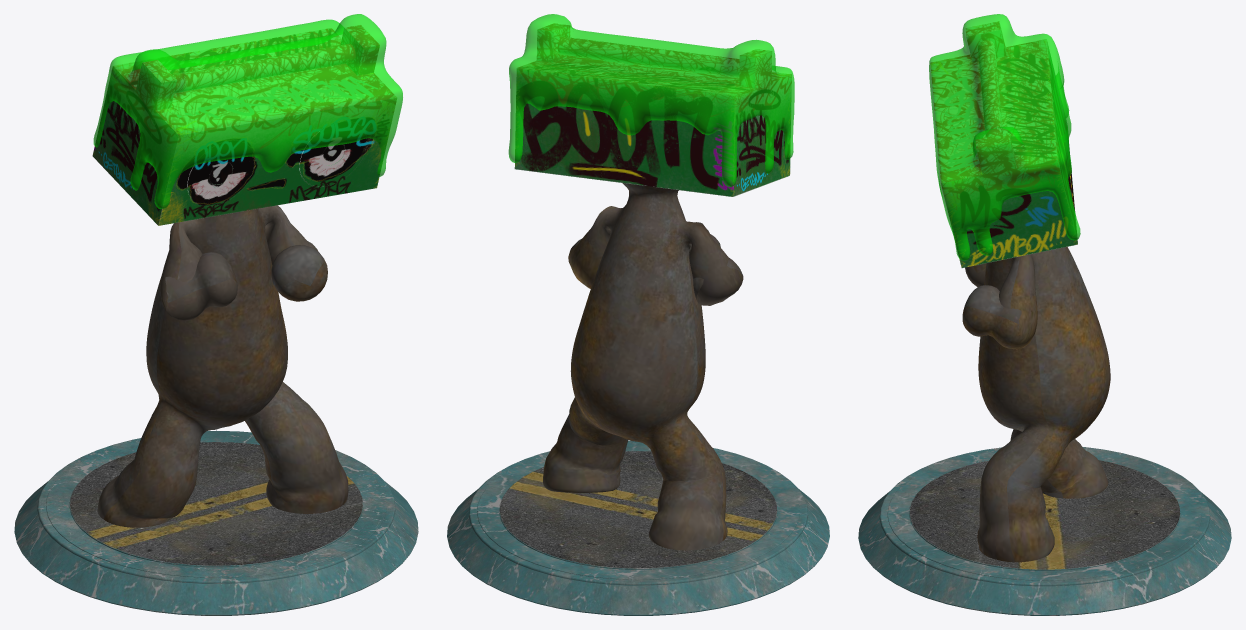
The picture shows the model from 3 angles, left to right: view 1: azimuth 30°, elevation 25°; view 2: azimuth 150°, elevation 25°; view 3: azimuth 270°, elevation 25°; orthographic projection. The views are drawn at different scales.
Visible parts, largest first — view 1: BBody; view 2: BBody; view 3: BBody.
Part boxes in pixels (x1,y1,x2,y2): BBody: [14, 14, 418, 615]; BBody: [447, 14, 829, 615]; BBody: [858, 14, 1231, 615].
Bounding box in the file's own units: 1.45 × 2.06 × 1.45.
5 materials, 4 textured.
